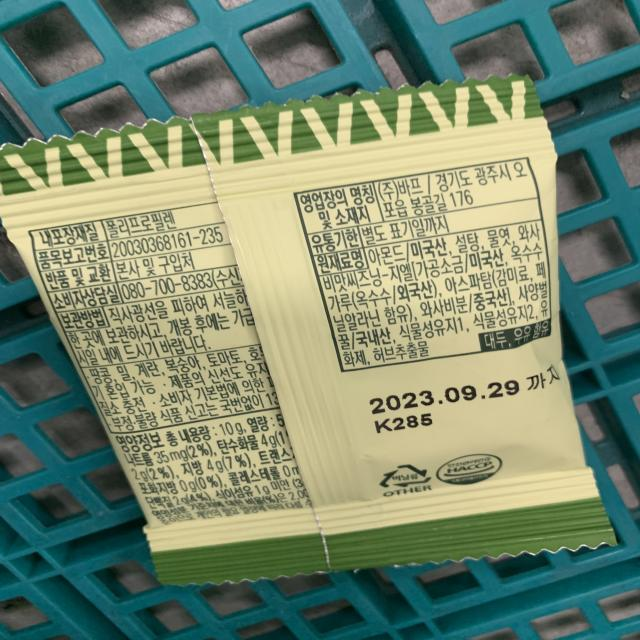object_name: (6, 125, 610, 545)
